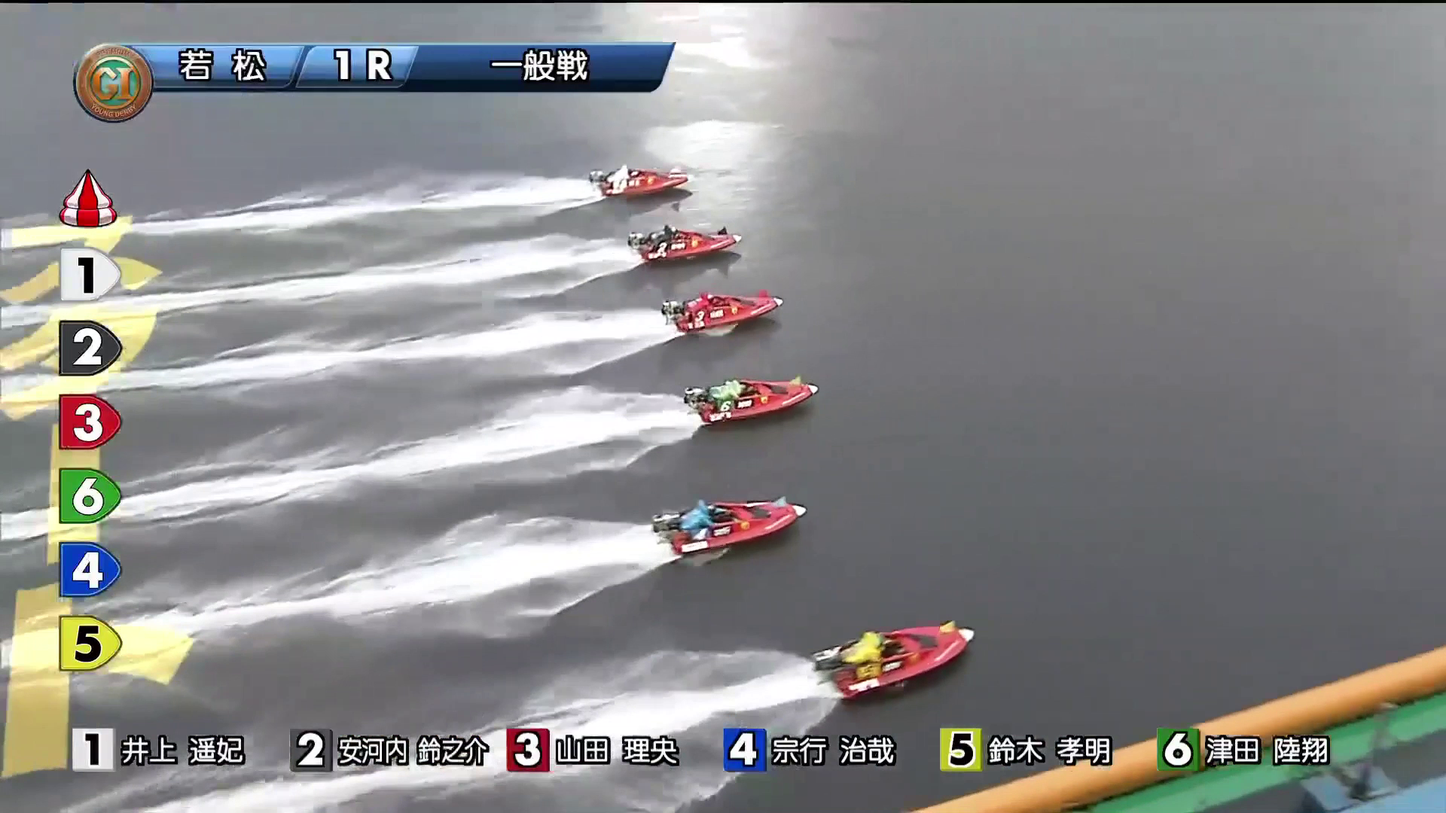１号艇: (607, 159, 682, 198)
２号艇: (635, 220, 738, 257)
３号艇: (668, 284, 793, 325)
４号艇: (697, 367, 802, 410)
５号艇: (659, 492, 779, 547)
６号艇: (791, 619, 949, 676)
